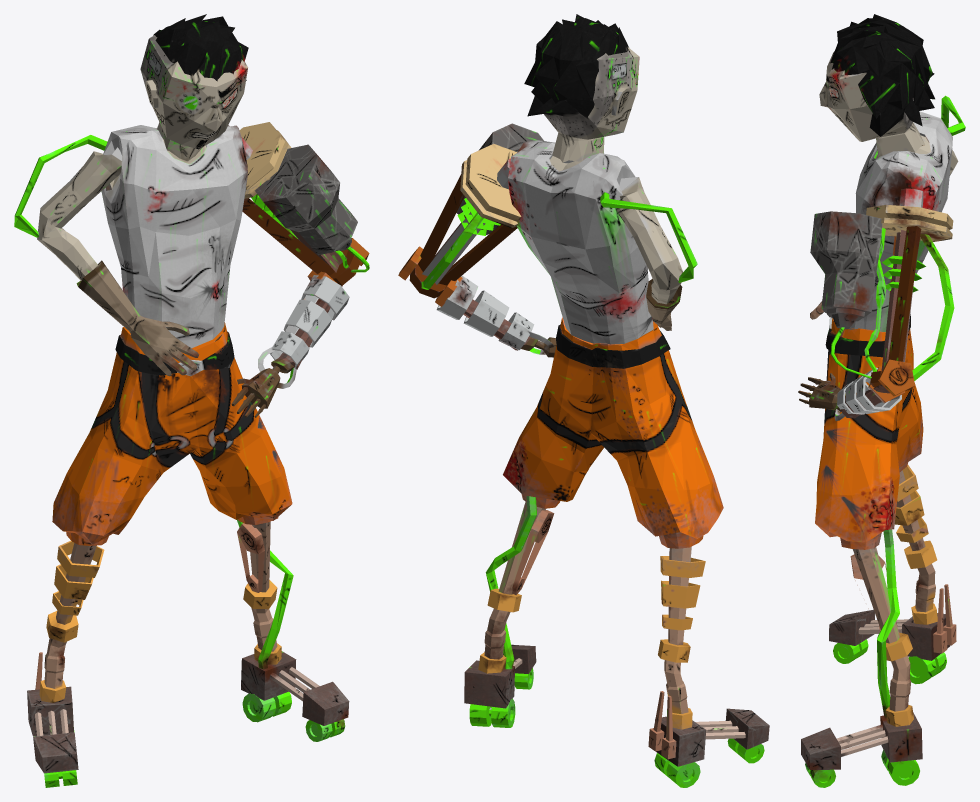
File: CyborgFINALAnimation_000027.obj
The picture shows the model from 3 angles, left to right: view 1: azimuth 30°, elevation 25°; view 2: azimuth 150°, elevation 25°; view 3: azimuth 270°, elevation 25°; orthographic projection.
Parts seen in each view (by area): view 1: CyborgMesh_Cube.002; view 2: CyborgMesh_Cube.002; view 3: CyborgMesh_Cube.002.
Part boxes in pixels (x1,y1,x2,y2): CyborgMesh_Cube.002: [14, 14, 369, 787]; CyborgMesh_Cube.002: [398, 14, 769, 787]; CyborgMesh_Cube.002: [798, 14, 965, 787].
Bounding box in the file's own units: 4.83 × 9.6 × 2.03.
